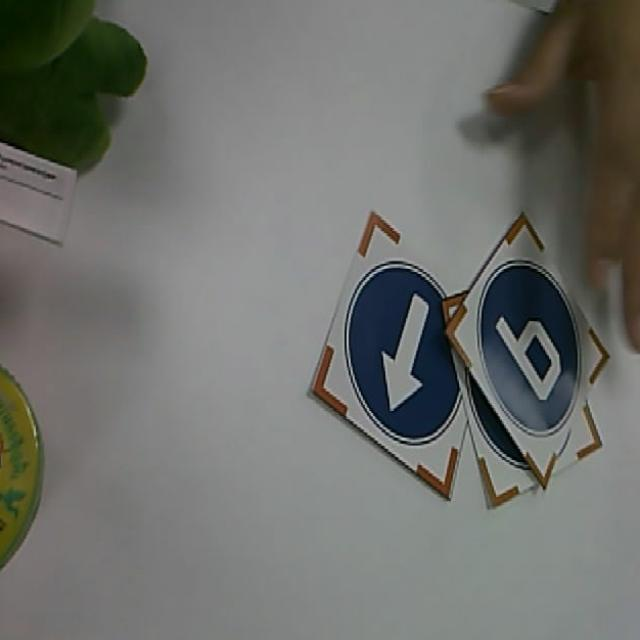parking: (447, 216, 602, 487)
straight: (307, 212, 476, 495)
